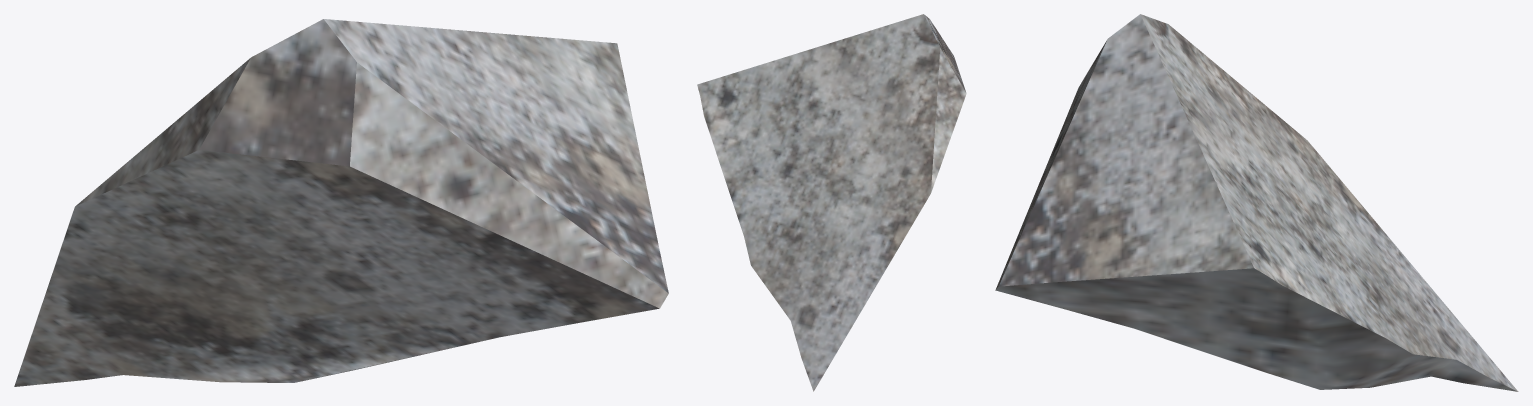
Rendered from Asteroid_Medium_001_02_001_03_005.fbx.
3 renders of one model, left to right at view 1: azimuth 30°, elevation 25°; view 2: azimuth 150°, elevation 25°; view 3: azimuth 270°, elevation 25°, orthographic. The views are drawn at different scales.
Visible parts, largest first — view 1: Asteroid_Medium_001_02_001_03_005; view 2: Asteroid_Medium_001_02_001_03_005; view 3: Asteroid_Medium_001_02_001_03_005.
Part boxes in pixels (box(x1,y1,x2,y2)): Asteroid_Medium_001_02_001_03_005: box(14, 19, 668, 386); Asteroid_Medium_001_02_001_03_005: box(697, 14, 966, 391); Asteroid_Medium_001_02_001_03_005: box(995, 14, 1518, 391).
Bounding box in the file's own units: 5.75 × 6 × 7.23.
